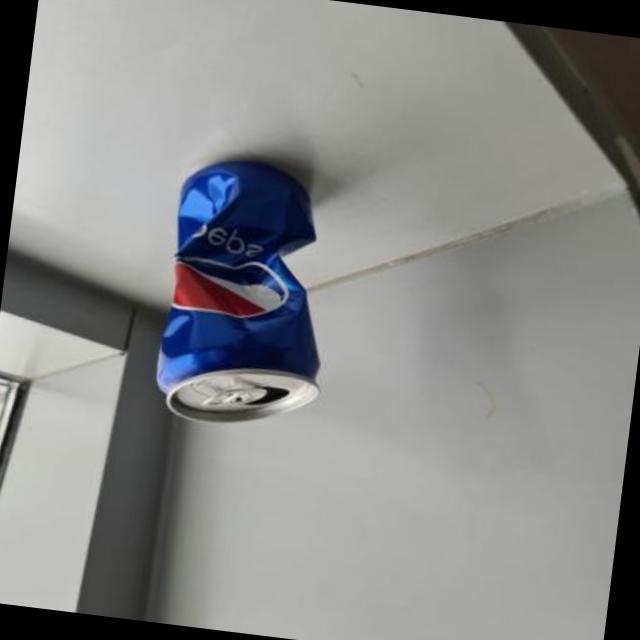metal: (153, 163, 315, 423)
